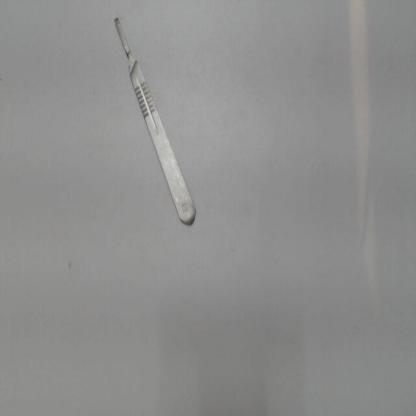No.4 BP Handle: (96, 6, 206, 240)
